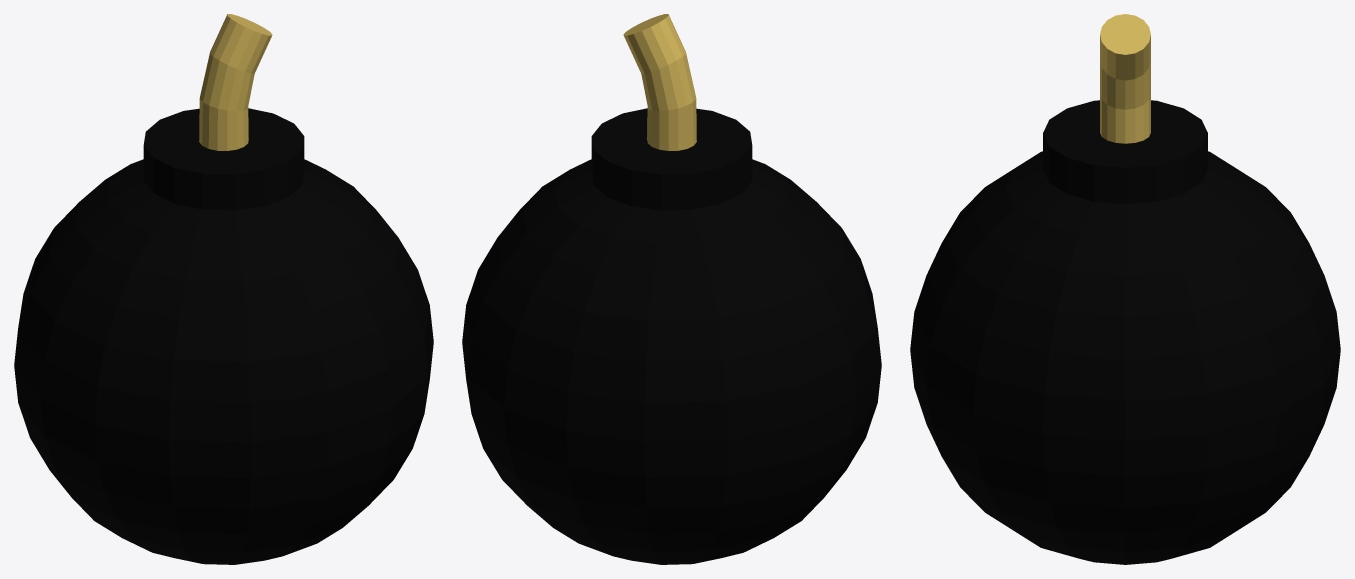
File: Bomb.fbx
3 renders of one model, left to right at view 1: azimuth 30°, elevation 25°; view 2: azimuth 150°, elevation 25°; view 3: azimuth 270°, elevation 25°, orthographic.
Parts seen in each view (by area): view 1: Sphere; view 2: Sphere; view 3: Sphere.
Part boxes in pixels (x1,y1,x2,y2): Sphere: (14,14,433,564); Sphere: (462,14,881,564); Sphere: (910,14,1340,564).
Size of the model in its own units: 200 by 274 by 200.
